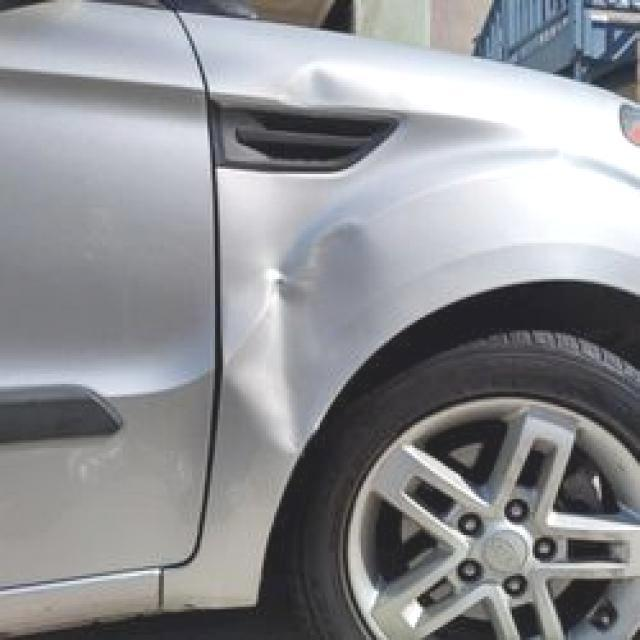minor: (220, 155, 474, 483), (283, 61, 384, 109)
